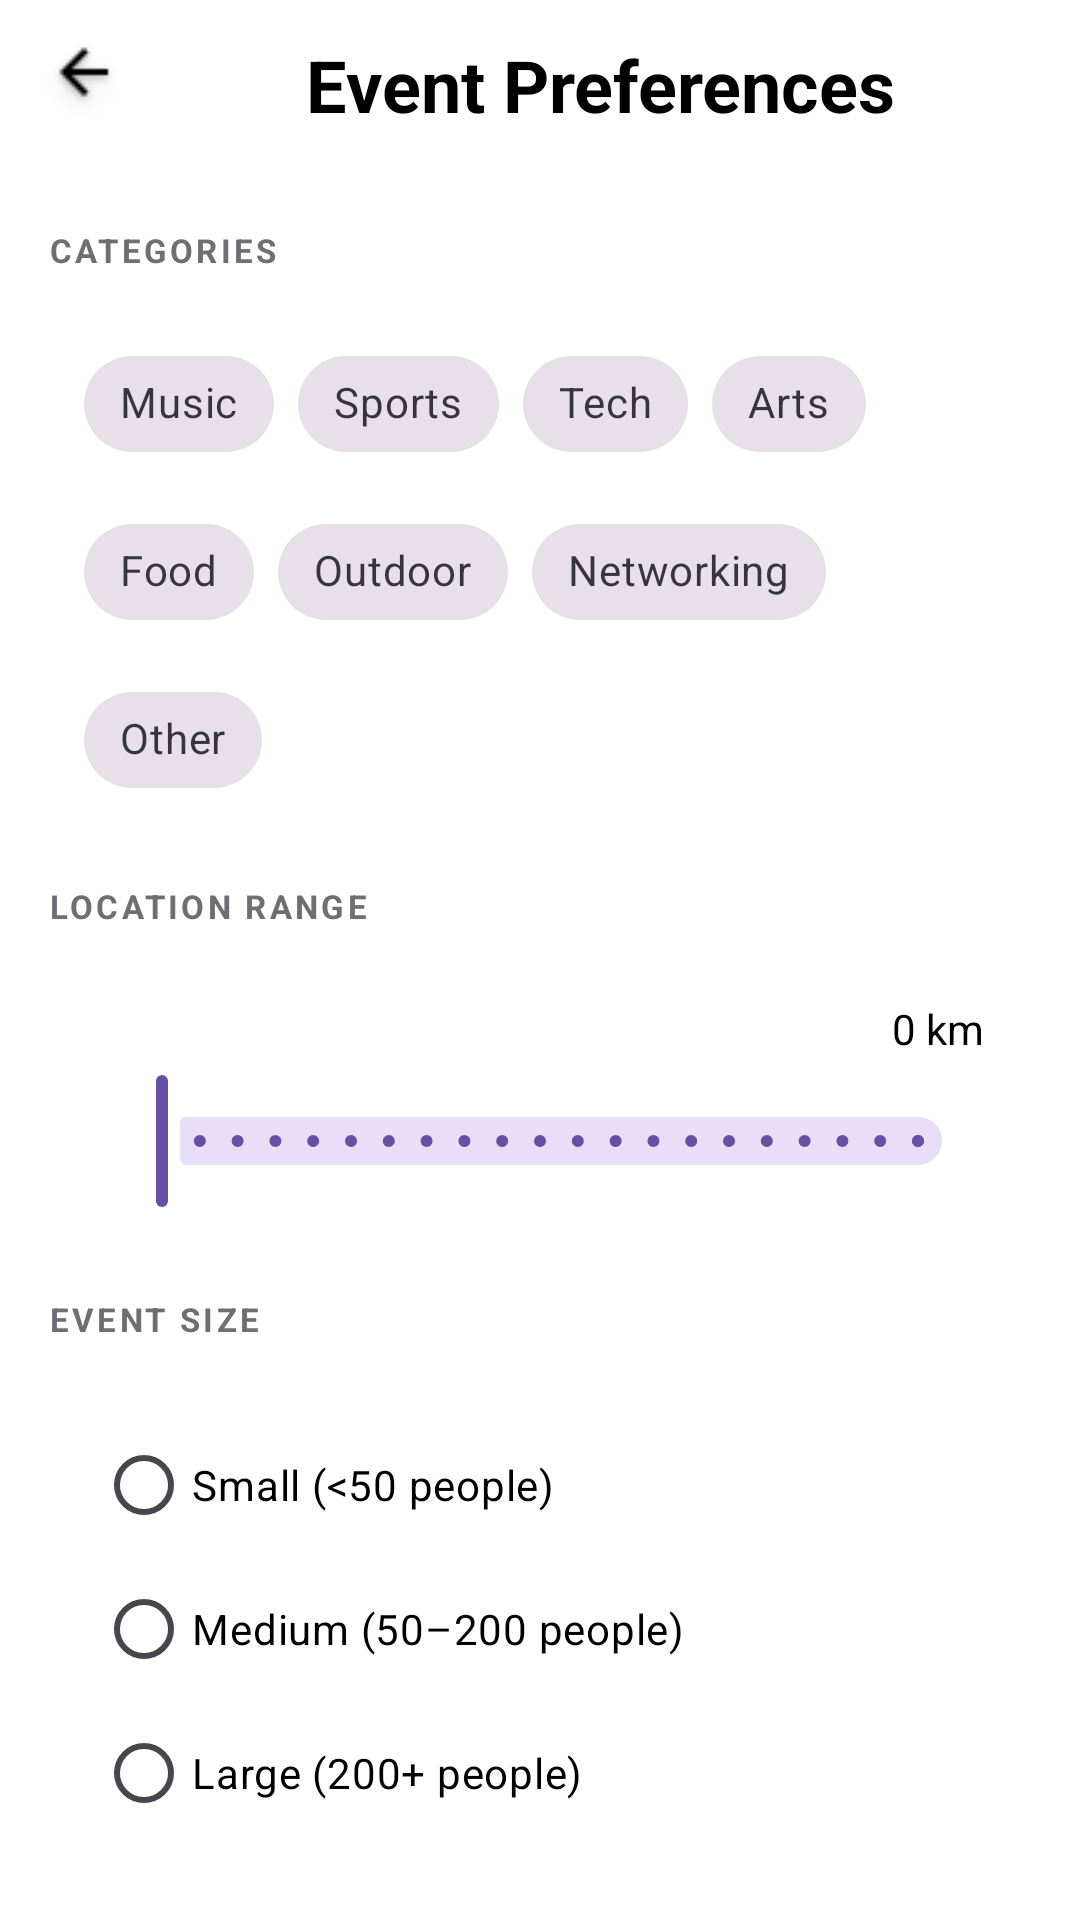

Screen size 1080px×1920px. Icon name, then its box in pixels as (x1, y1, x2, y2):
Go back: (59, 47, 109, 99)
